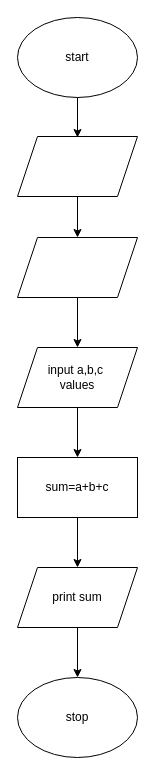
Some shapes in this 155 by 775 pixel diagram are drawn without their labels. Each missing label, with the centre of its shape:
"declare a,b,c variables" goes at (77,267).
"sum=0" goes at (77,166).
